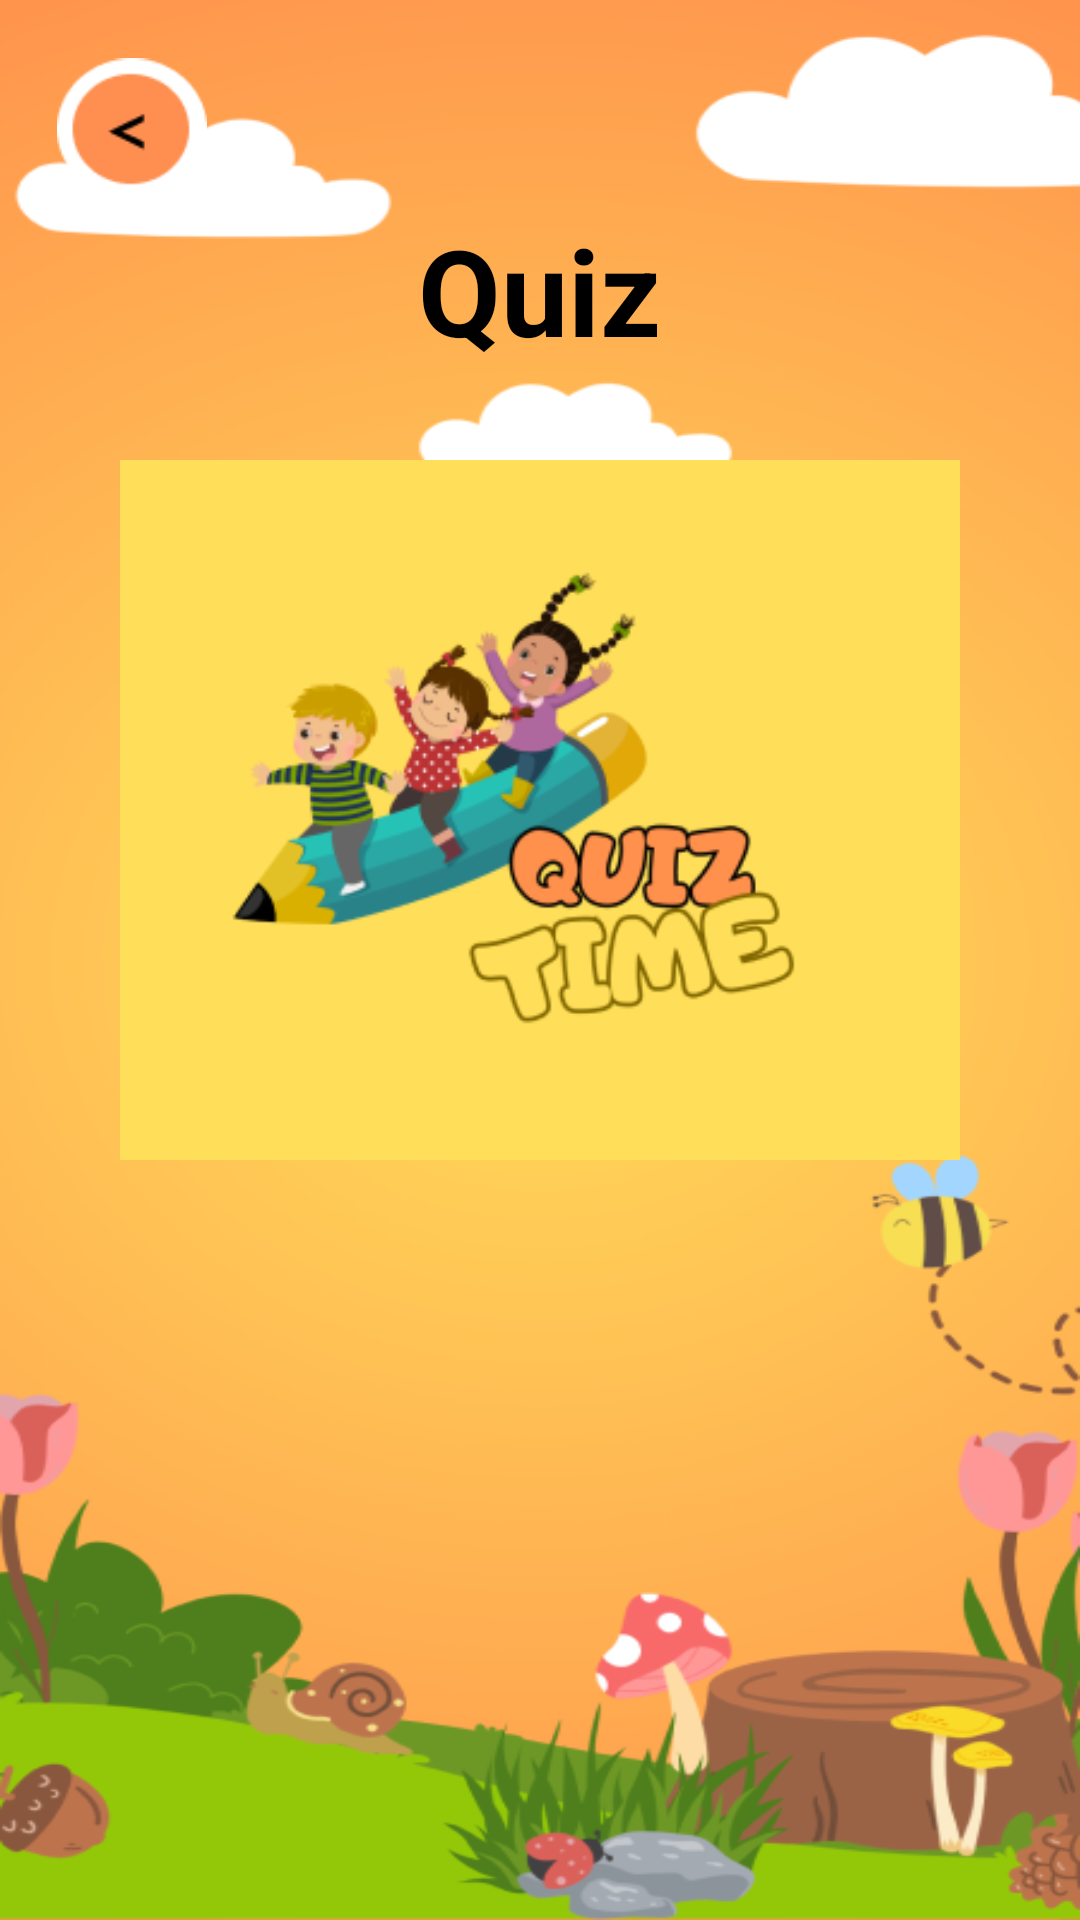

Named icons in this screenshot (1080px×1920px) and their centers, (x,y):
Back: (132,129)
